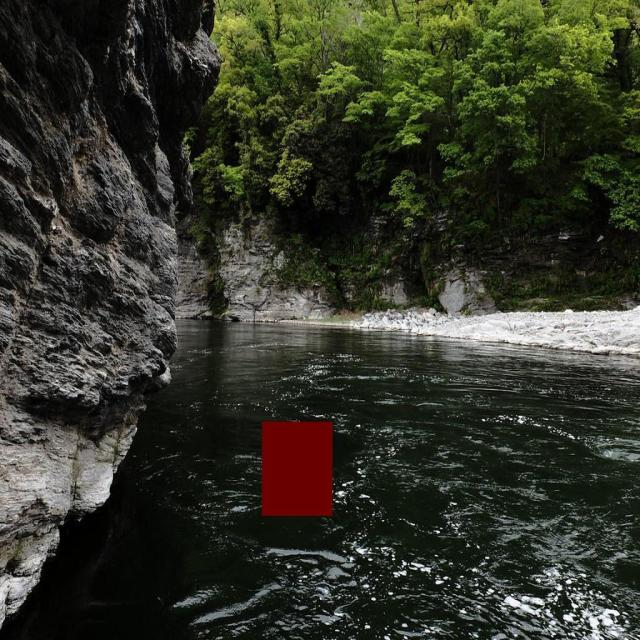RedSquare: (258, 415, 338, 521)
